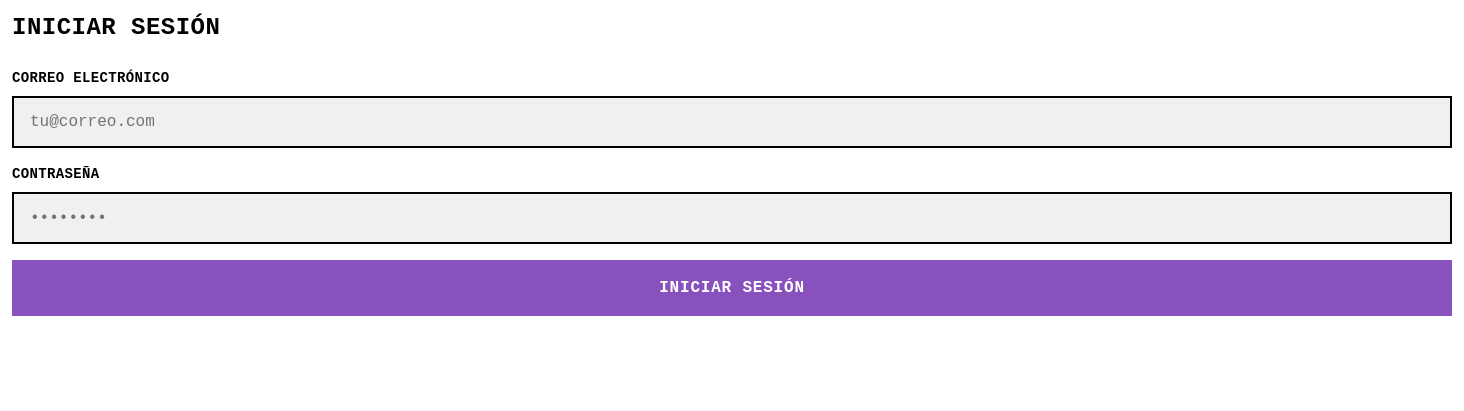
Test: LoginForm Integration › shows error message on login failure
The image size is (1464, 411).
In the field labelled "Correo Electrónico": (732, 122) [12, 96, 1452, 148], type "wrong@example.com"
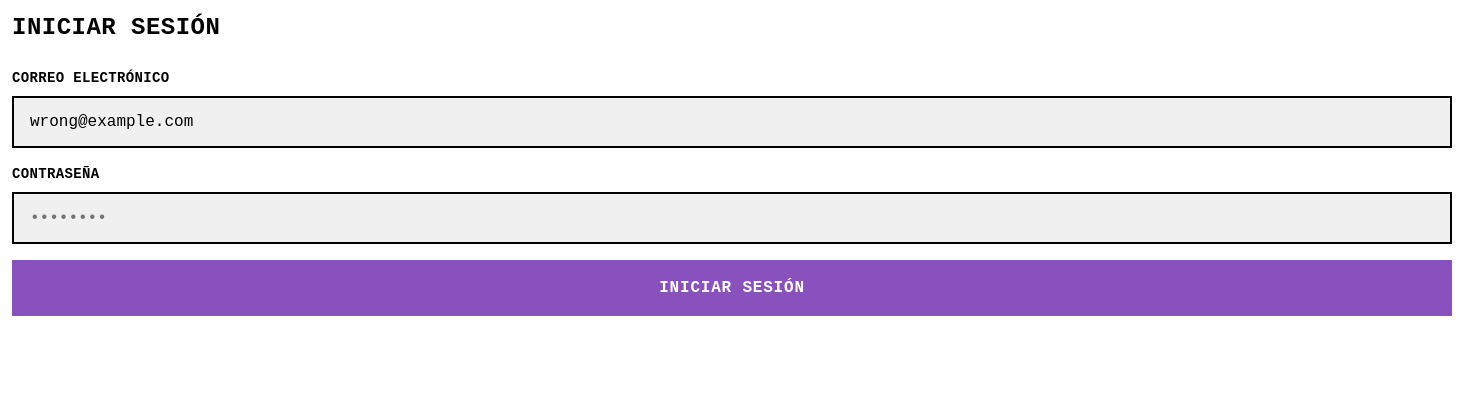
In the password field labelled "Contraseña": (732, 218) [12, 192, 1452, 244], type "wrongpassword"
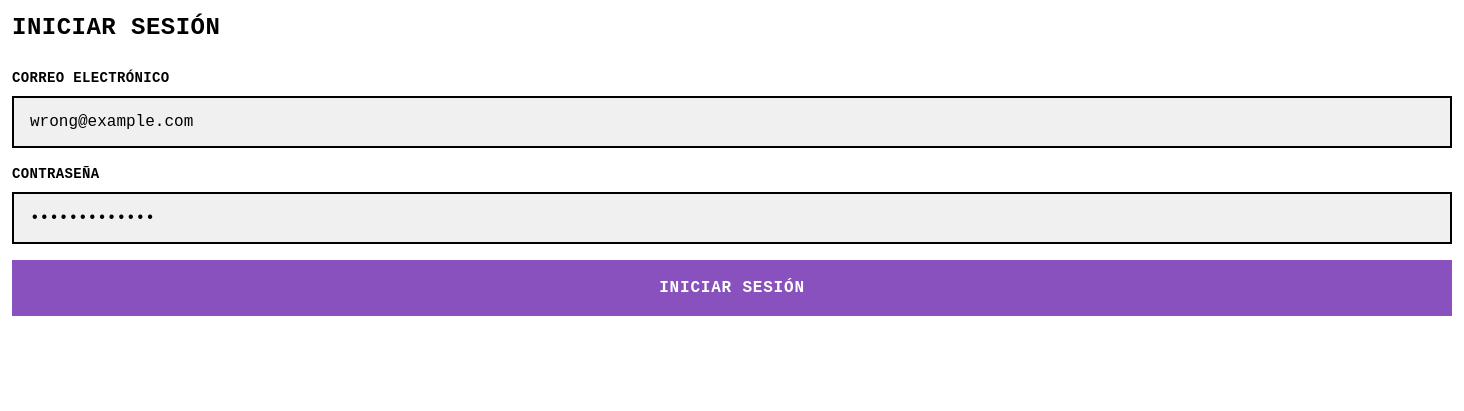
Click the button "Iniciar Sesión": (732, 288) [12, 260, 1452, 316]
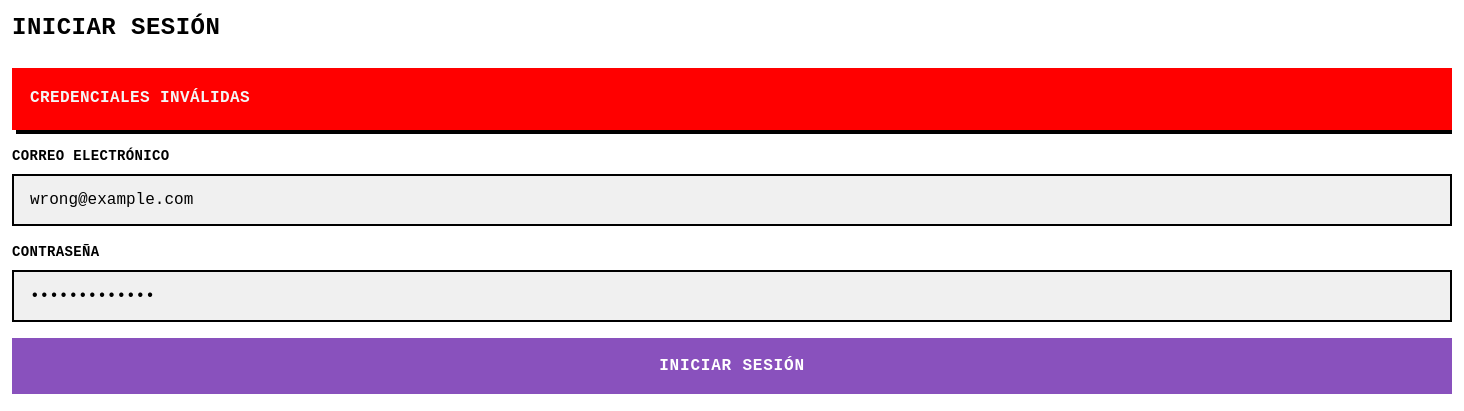
Now the text "Credenciales inválidas" is shown, box [30, 86, 250, 112]
